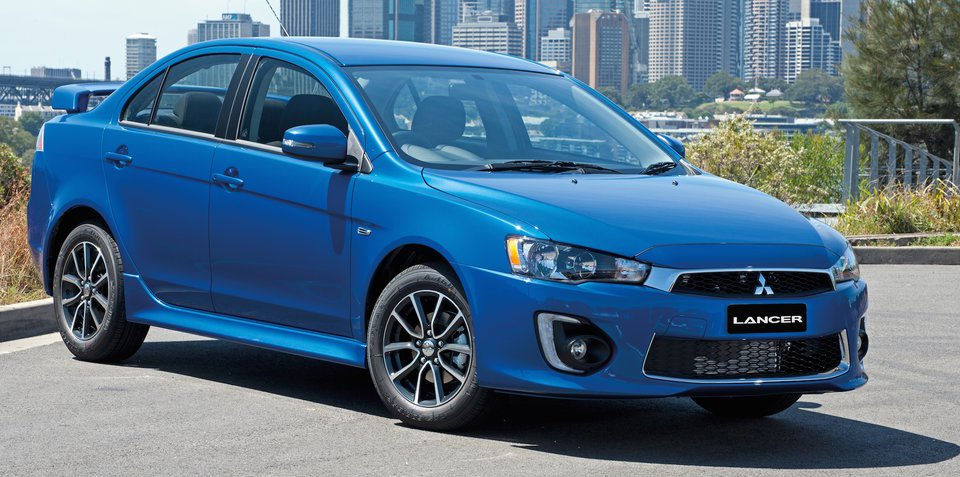sedan: (24, 33, 884, 435)
